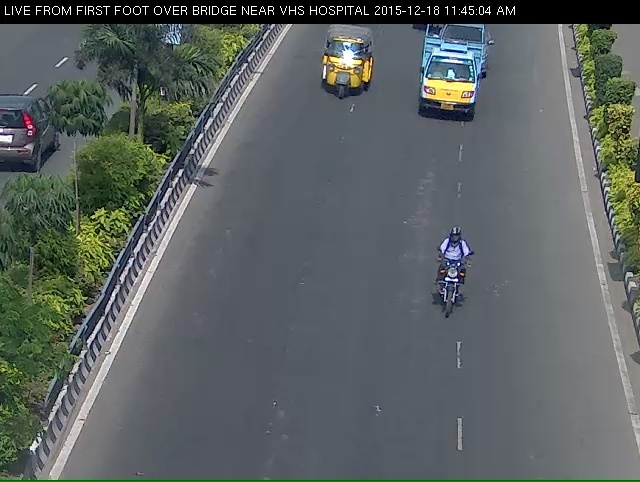Car: (414, 22, 497, 126), (314, 34, 373, 109)
Person: (428, 245, 479, 348)
